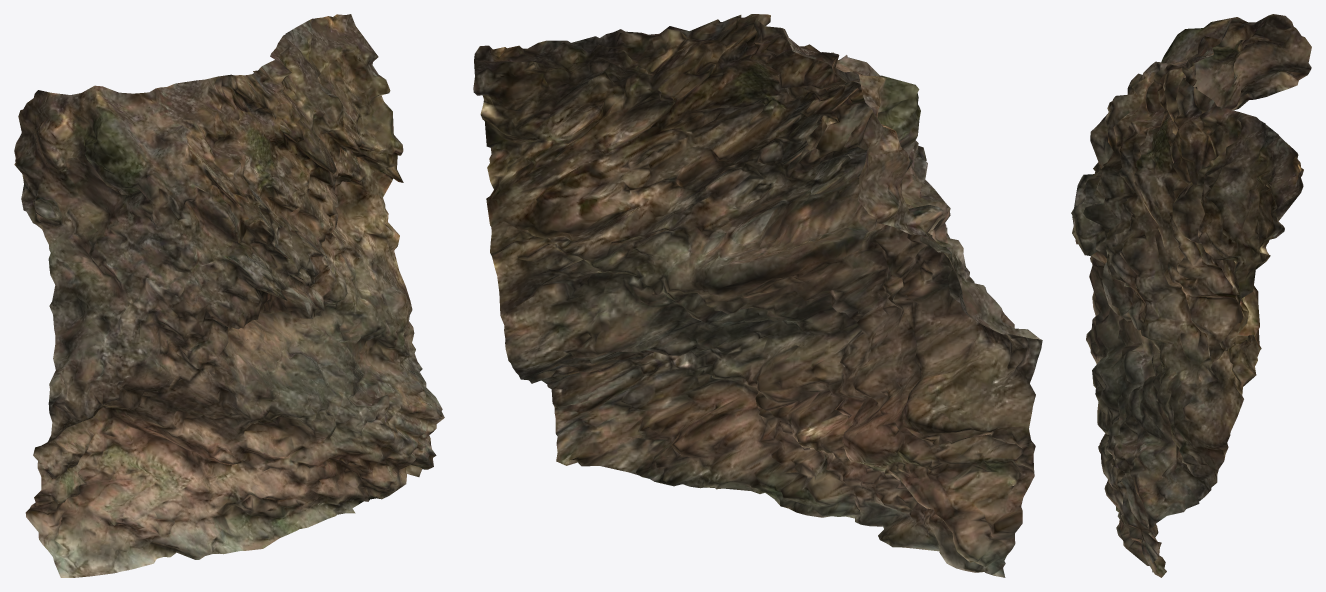
Rendered from mountainside-lod1.glb.
3 views of the same model, side by side, from view 1: azimuth 30°, elevation 25°; view 2: azimuth 150°, elevation 25°; view 3: azimuth 270°, elevation 25° (orthographic). The views are drawn at different scales.
Visible parts, largest first — view 1: mountainside; view 2: mountainside; view 3: mountainside.
Boxes of the visible parts, x1=… form: mountainside: x1=14, y1=14, x2=444, y2=577; mountainside: x1=473, y1=14, x2=1042, y2=577; mountainside: x1=1071, y1=14, x2=1311, y2=577.
Bounding box in the file's own units: 10.21 × 10.52 × 5.24.
1 material, 1 textured.
